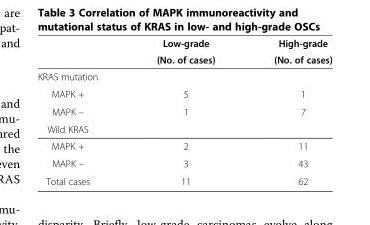table: (36, 37, 331, 186)
table column: (126, 37, 243, 186), (36, 37, 126, 186), (243, 37, 331, 186)
table column header: (36, 37, 331, 67)
table projected row header: (36, 67, 331, 84), (36, 120, 331, 137)
table row: (36, 84, 331, 102), (36, 102, 331, 120), (36, 154, 331, 172), (36, 67, 331, 84), (36, 120, 331, 137), (36, 137, 331, 154), (36, 51, 331, 67), (36, 37, 331, 51), (36, 172, 331, 186)
table spanning cell: (126, 37, 243, 67), (243, 37, 331, 67)
